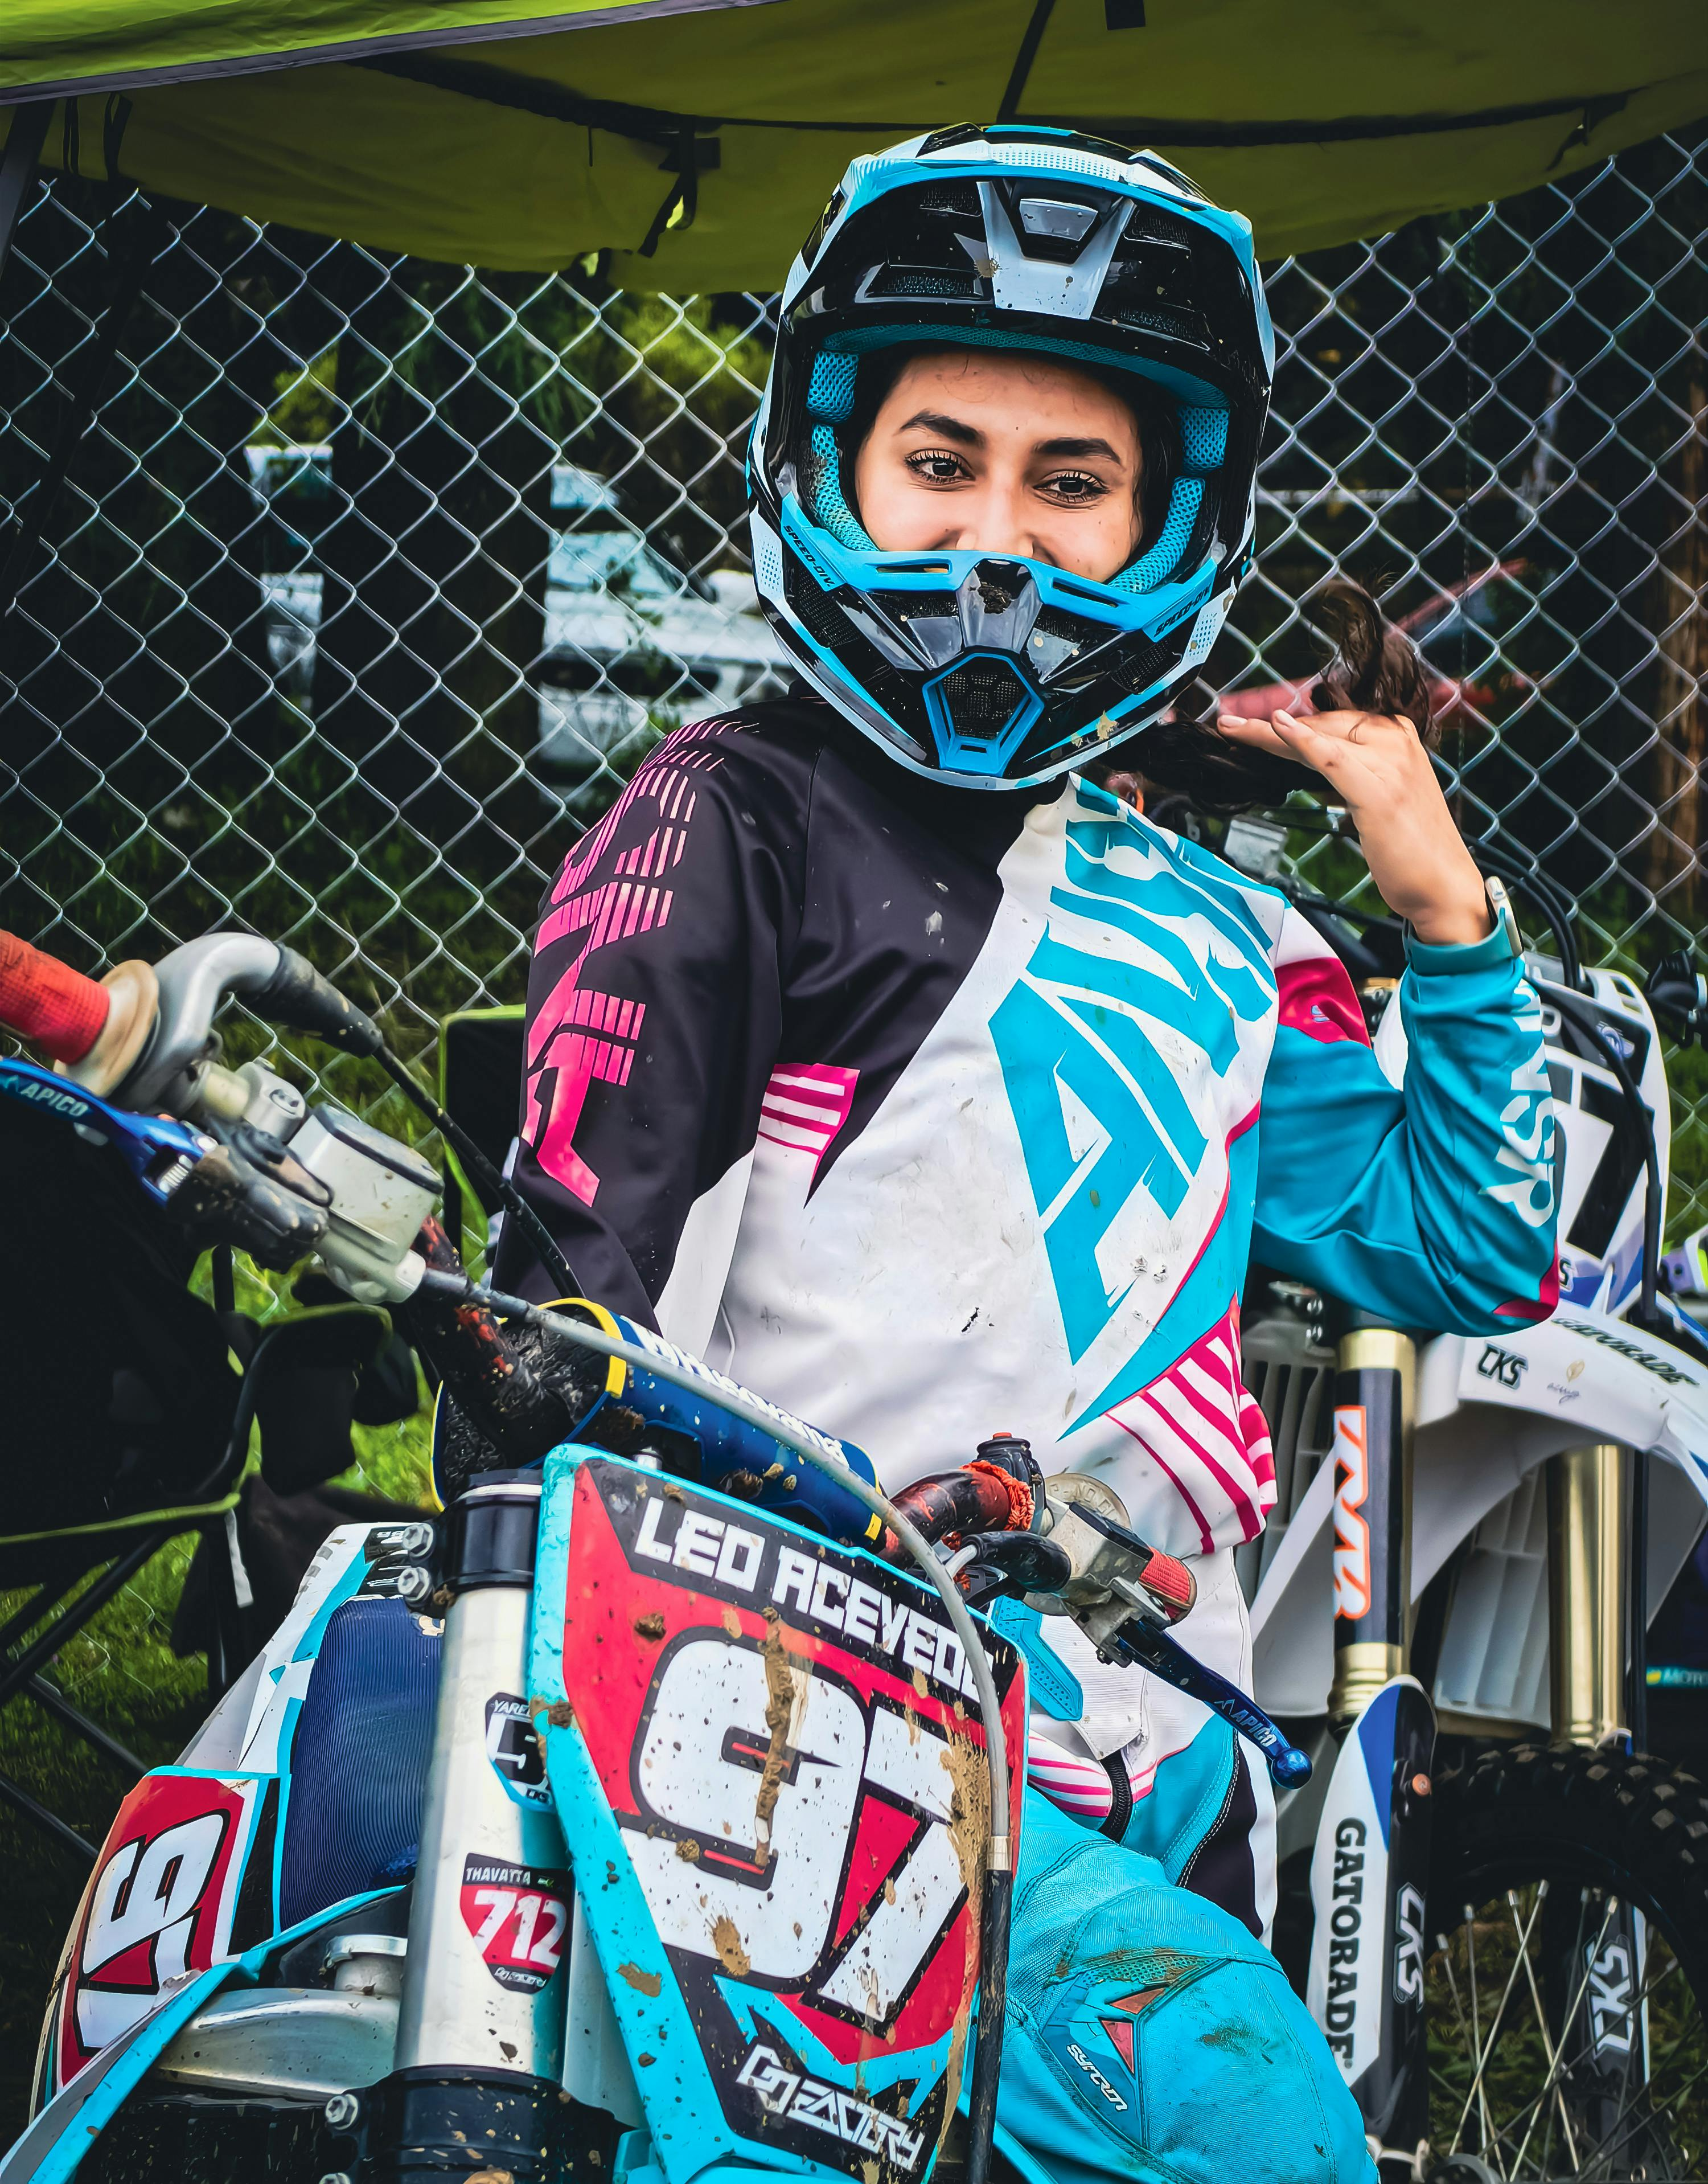capacete: (739, 117, 1272, 799)
